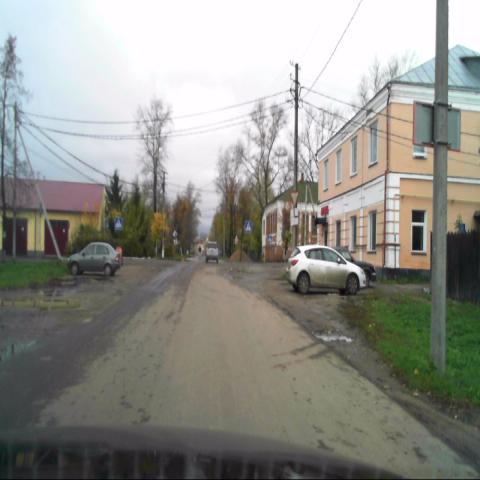2_4: (289, 191, 299, 207)
5_19_1: (115, 217, 123, 231), (244, 220, 252, 232)
8_13: (290, 208, 298, 225)
